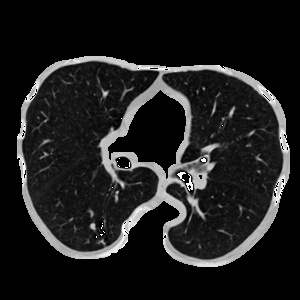PN: (88, 222, 96, 230)
